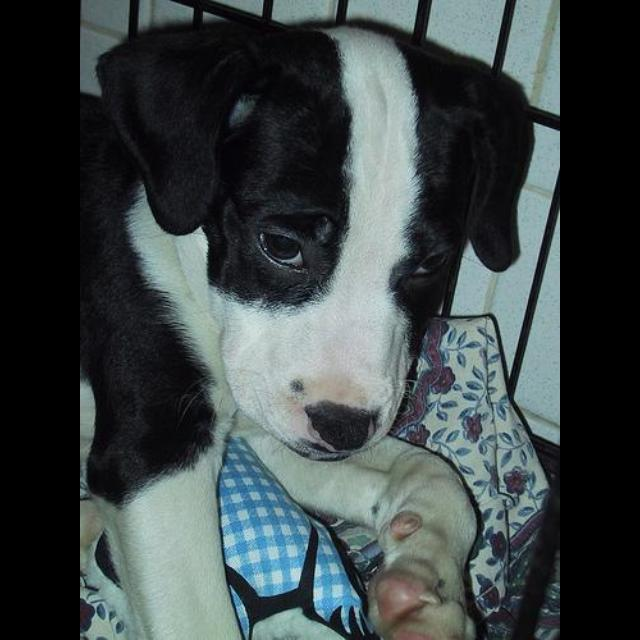amstaff: (82, 18, 537, 640)
